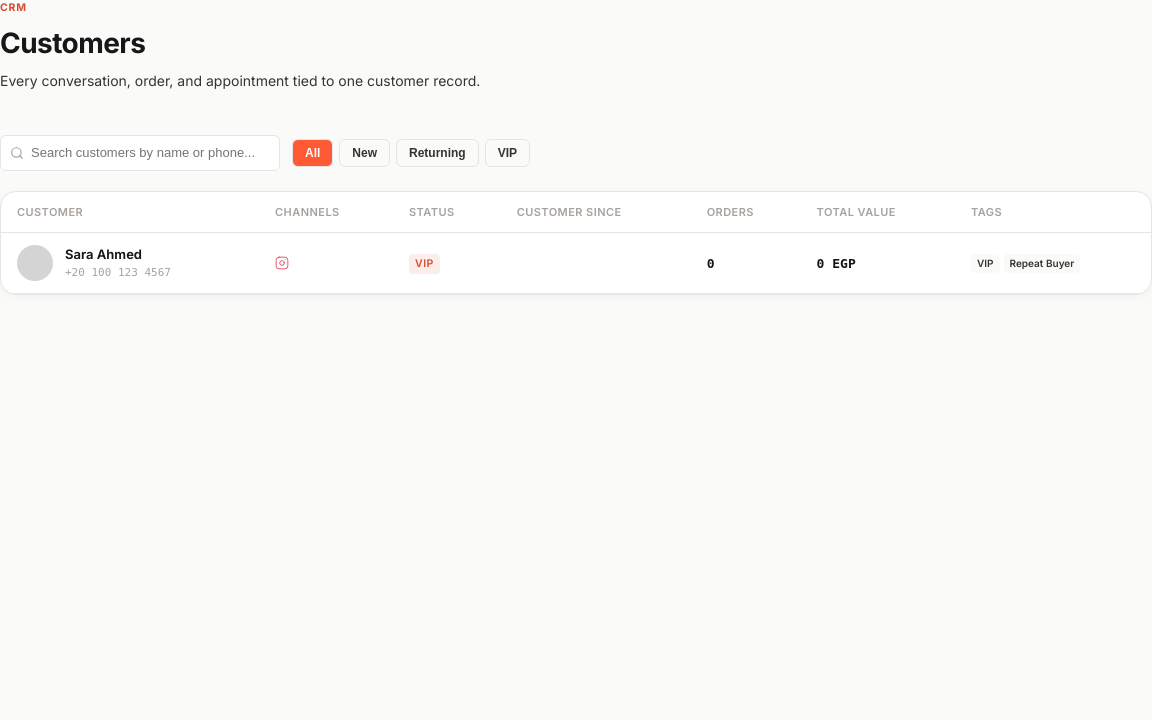
Test: Customers detail drawer & flows › adds and removes tags with appropriate toasts
This screenshot has width=1152, height=720.
Click the text "Sara Ahmed".
click(104, 254)  # box x1=65 y1=246 x2=142 y2=262
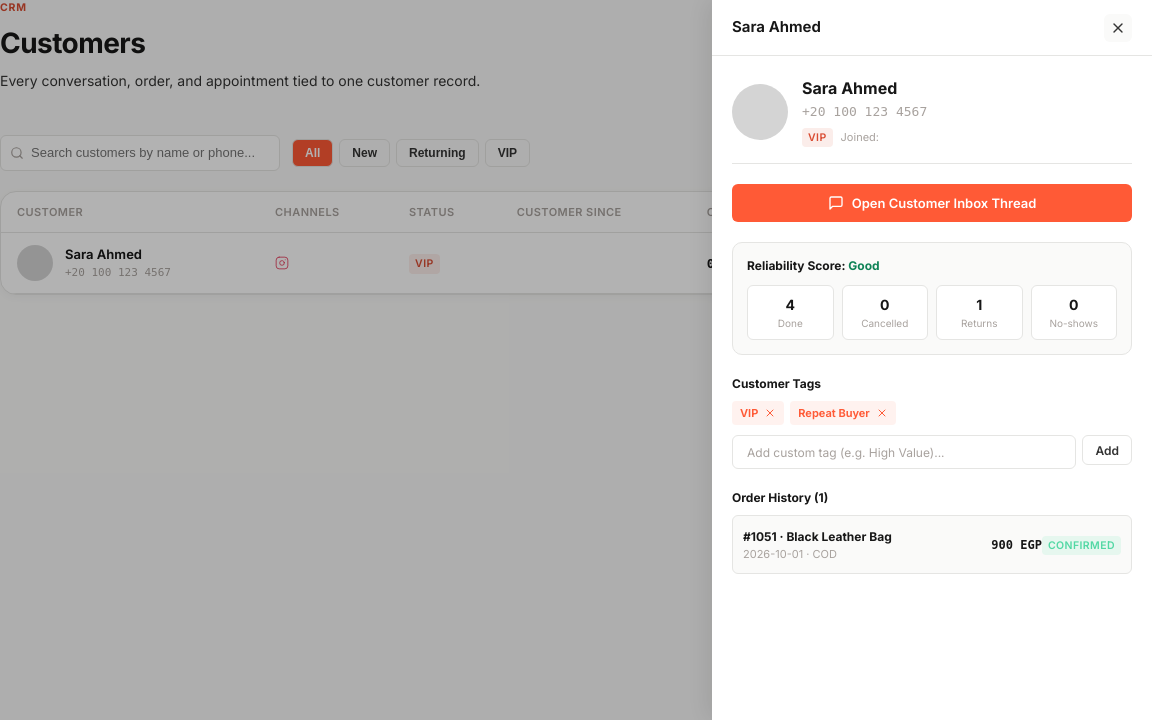
Now the text "Customer Tags" is shown, box x1=732 y1=376 x2=821 y2=390
Add new tag
Type "High Value" into the field with placeholder "Add custom tag (e.g. High Value)...".
click(904, 452); type("High Value")  # box x1=732 y1=435 x2=1076 y2=469
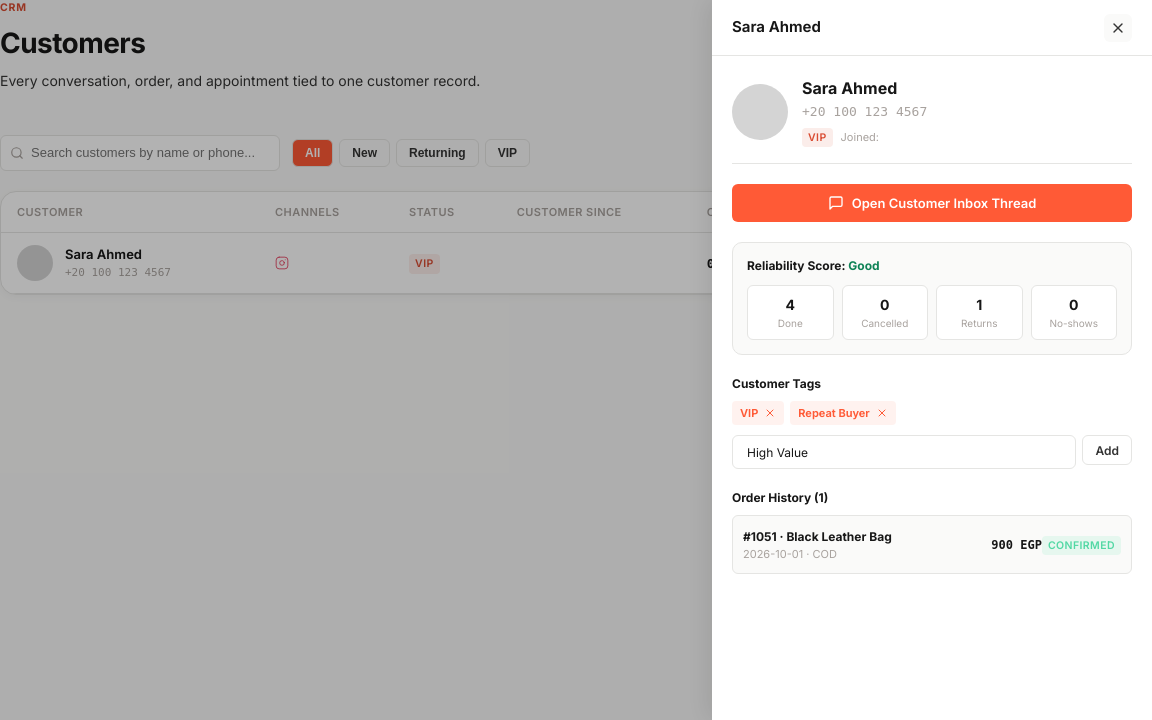
Click the button "Add".
click(1107, 450)  # box x1=1082 y1=435 x2=1132 y2=465
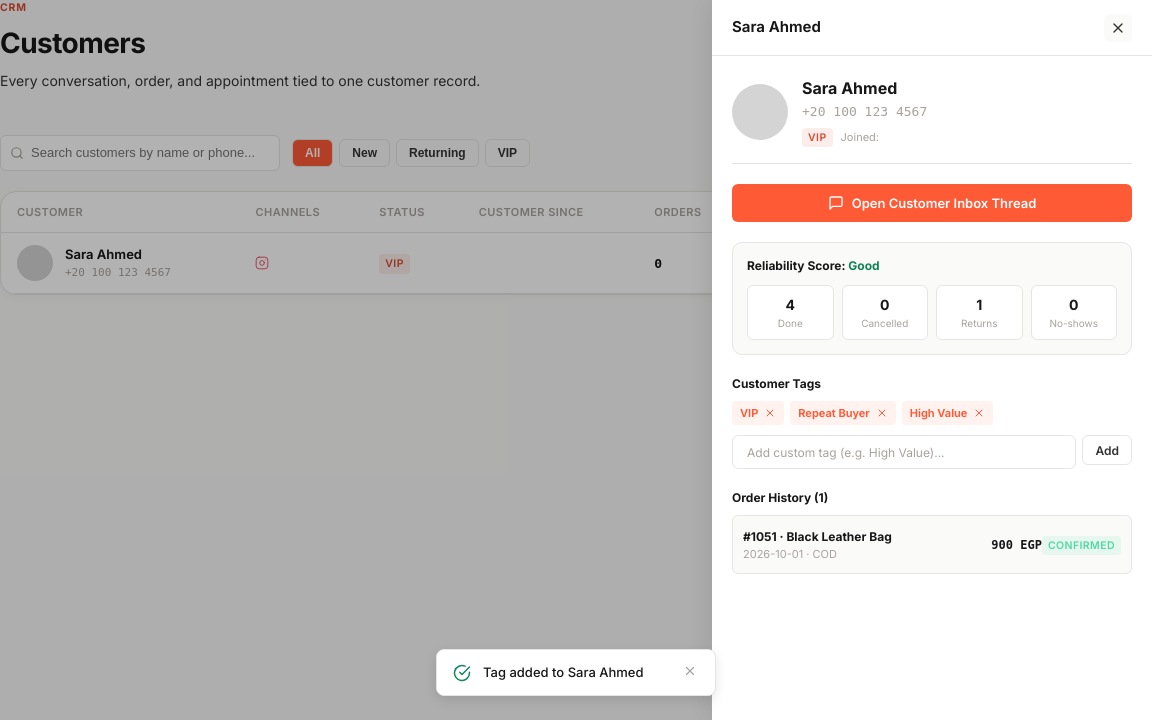
Now the text "Tag added to Sara Ahmed" is shown, box x1=483 y1=663 x2=669 y2=682
Remove existing tag inside the drawer
Click the 3rd icon.
click(770, 413)  # box x1=764 y1=407 x2=776 y2=419
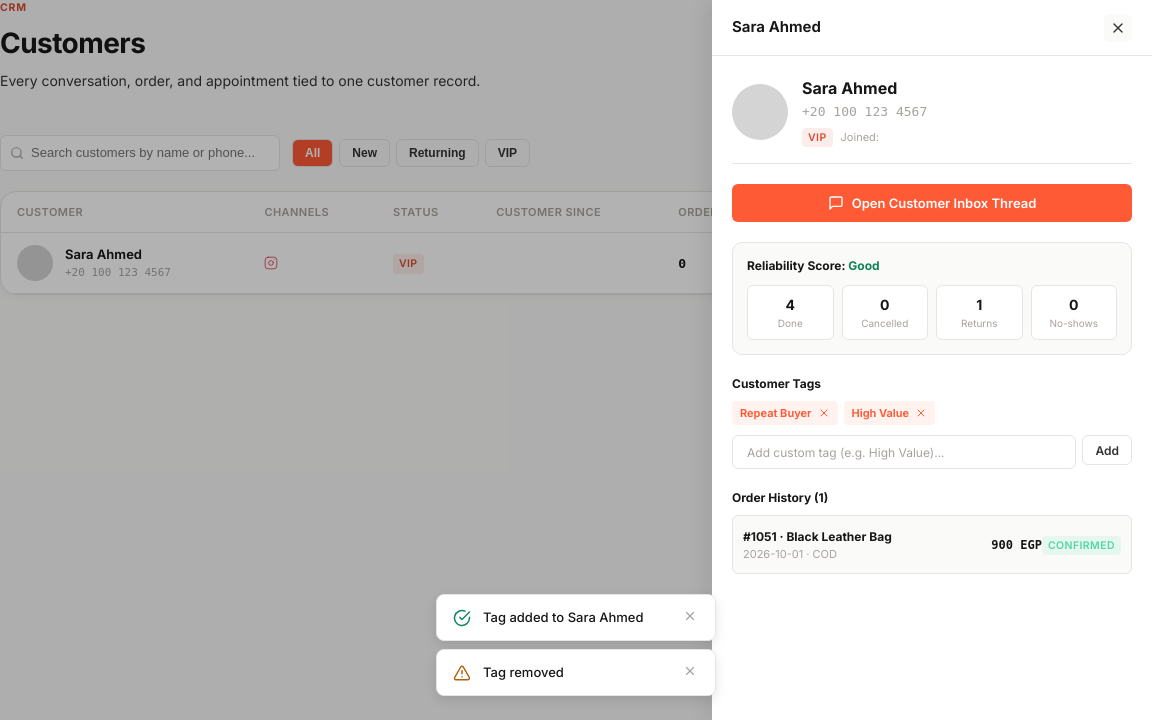
Now the text "Tag removed" is shown, box x1=483 y1=664 x2=564 y2=680
